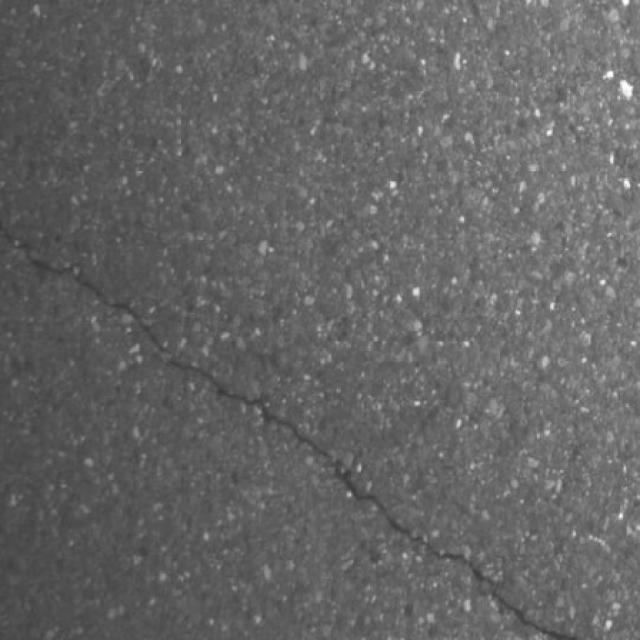Diagonal Crack: (0, 199, 594, 640)
